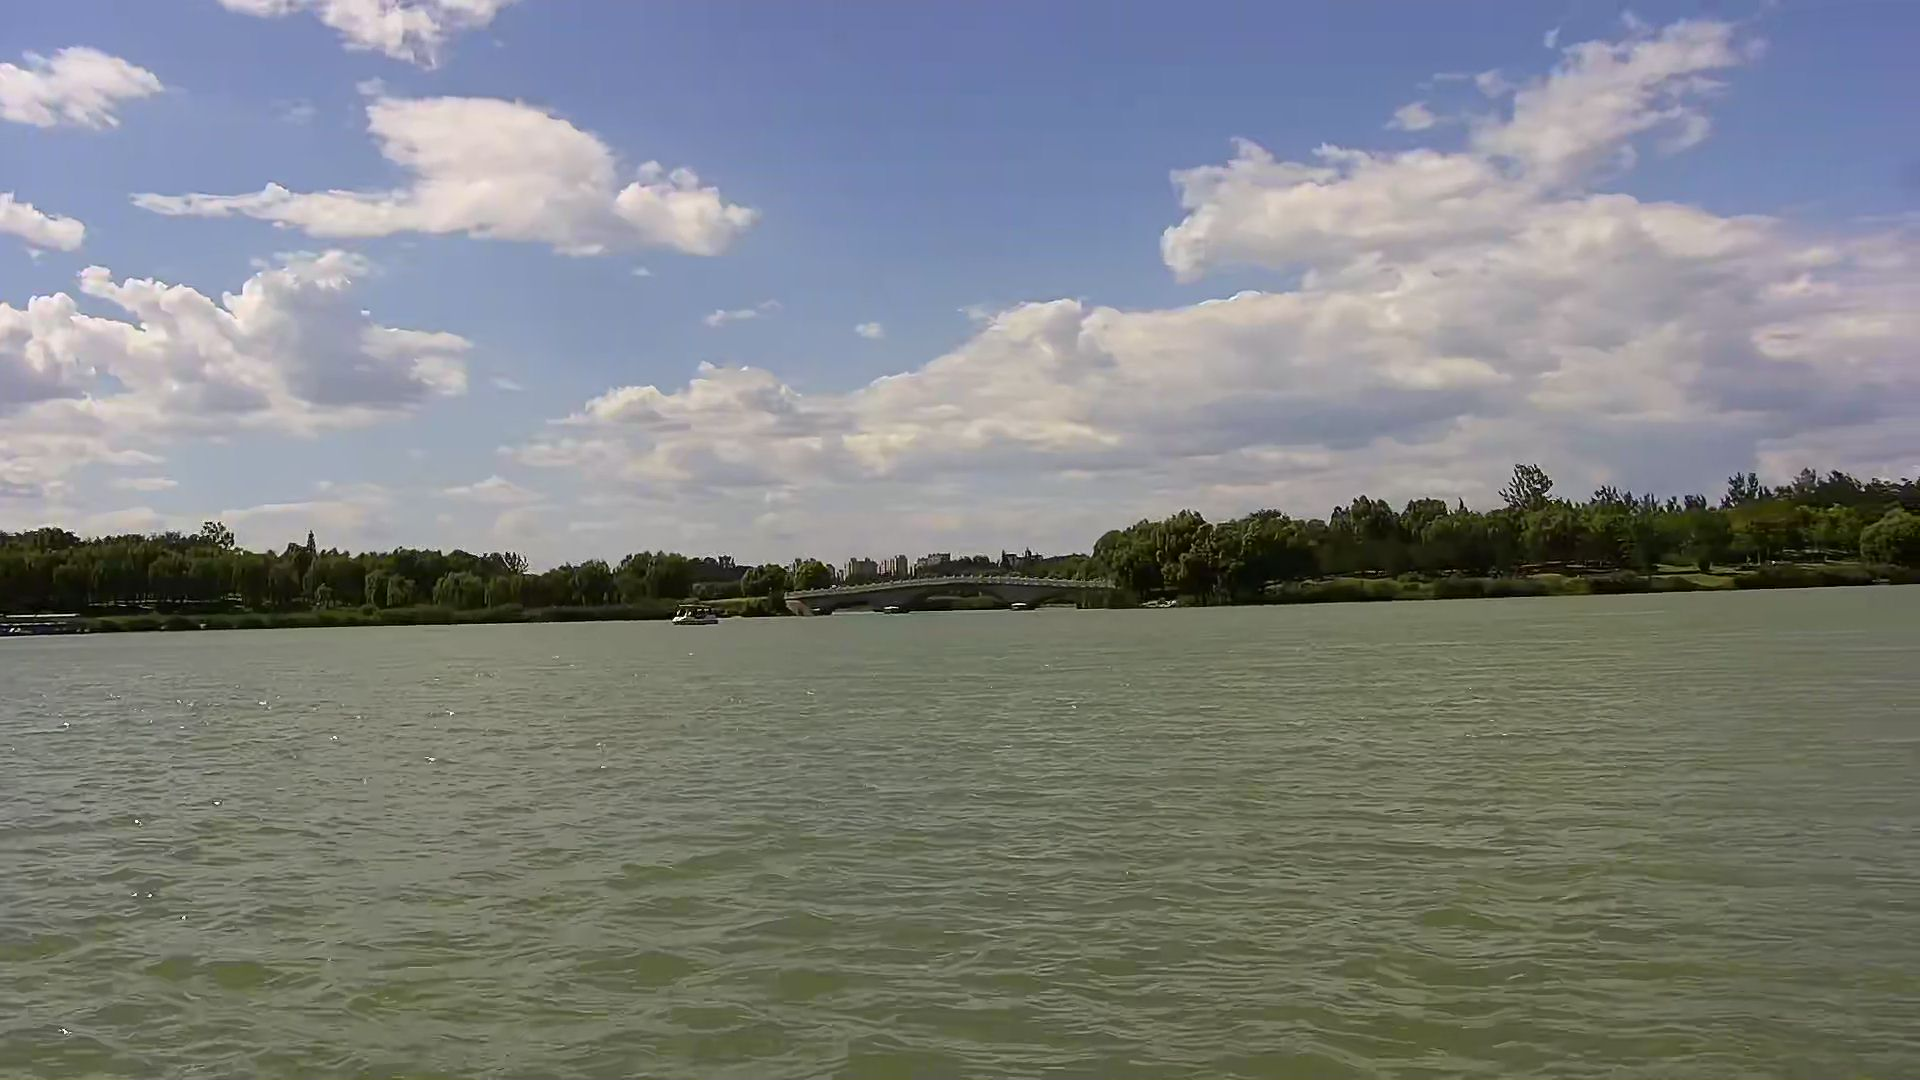boat: (673, 603, 717, 626)
bridge: (785, 574, 1120, 611)
